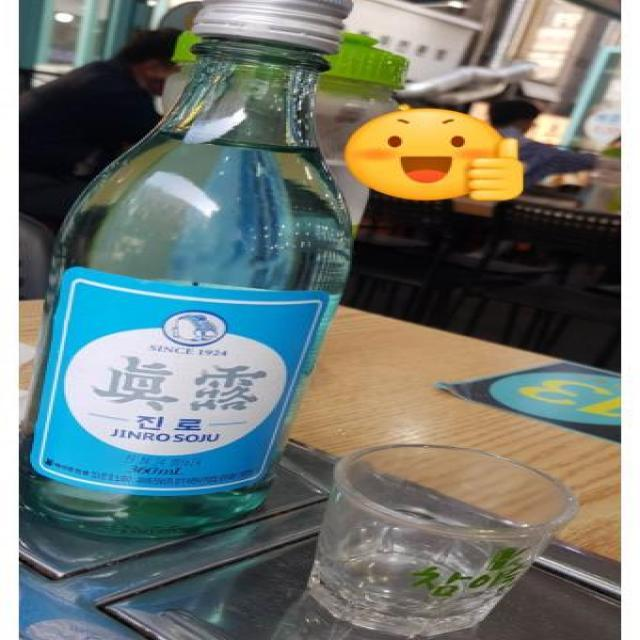soju-bottle: (21, 1, 356, 540)
